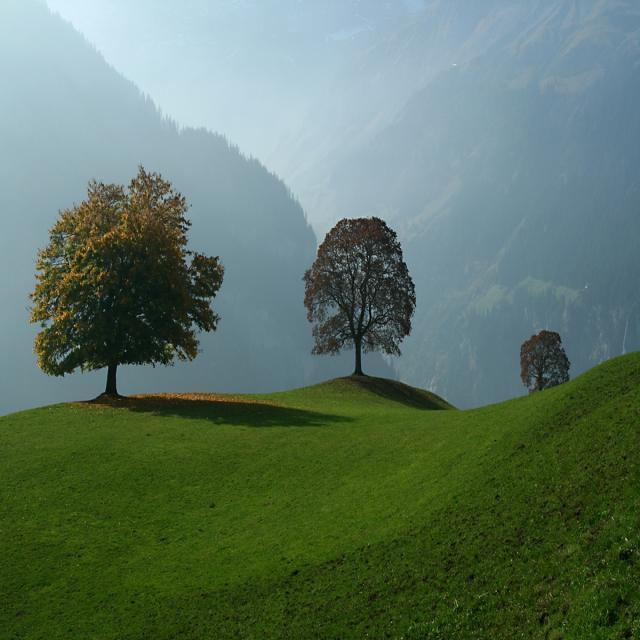tree: (34, 165, 226, 398), (302, 218, 416, 378), (516, 326, 572, 398)
